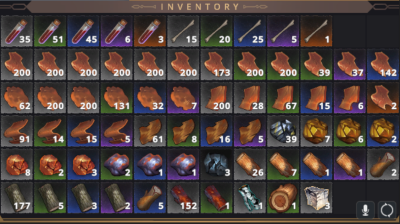ash log: (68, 182, 99, 212), (35, 182, 65, 212), (102, 182, 131, 212), (2, 183, 31, 212)
aurelium ore: (302, 116, 332, 146), (335, 116, 364, 145), (369, 116, 397, 145)
birch log: (236, 183, 265, 213)
blood: (1, 16, 33, 47), (67, 16, 98, 46), (101, 16, 131, 46), (134, 16, 165, 45), (35, 16, 64, 46)
bone: (168, 16, 198, 46), (301, 16, 331, 46), (267, 17, 298, 46), (201, 16, 231, 45), (235, 17, 265, 46)
copper ore: (2, 149, 32, 178), (36, 150, 65, 178), (69, 150, 97, 177)
durable hide: (168, 116, 199, 146), (202, 116, 232, 146), (235, 116, 264, 146), (136, 118, 164, 145)
flexible hide: (101, 117, 132, 146), (1, 116, 31, 145), (35, 116, 64, 145), (68, 117, 97, 146)
iron ore: (135, 150, 165, 179), (168, 150, 198, 179), (102, 150, 131, 179)
limestone stone: (301, 182, 332, 213)
oak heartwood: (268, 181, 298, 212)
oak log: (335, 149, 365, 179), (268, 151, 299, 179), (236, 150, 265, 179), (303, 150, 331, 179)
soft leather: (68, 81, 98, 113), (101, 81, 131, 113), (1, 82, 32, 112), (135, 82, 164, 112), (168, 82, 198, 111), (36, 82, 65, 111)
spruce log: (368, 149, 398, 179), (135, 183, 165, 212)
strong hide: (202, 82, 231, 112), (302, 83, 331, 111), (336, 84, 364, 112), (236, 83, 263, 112), (269, 84, 297, 111)
tin ore: (268, 116, 298, 145)
tough hide: (34, 49, 65, 80), (1, 49, 32, 79), (135, 49, 165, 80), (168, 49, 198, 80), (369, 82, 400, 112), (68, 49, 98, 79), (102, 49, 131, 80), (336, 50, 365, 81), (367, 49, 398, 78), (236, 50, 265, 80), (301, 50, 331, 79), (202, 49, 231, 78), (269, 50, 297, 79)
yew log: (201, 183, 232, 212), (169, 183, 199, 212)
